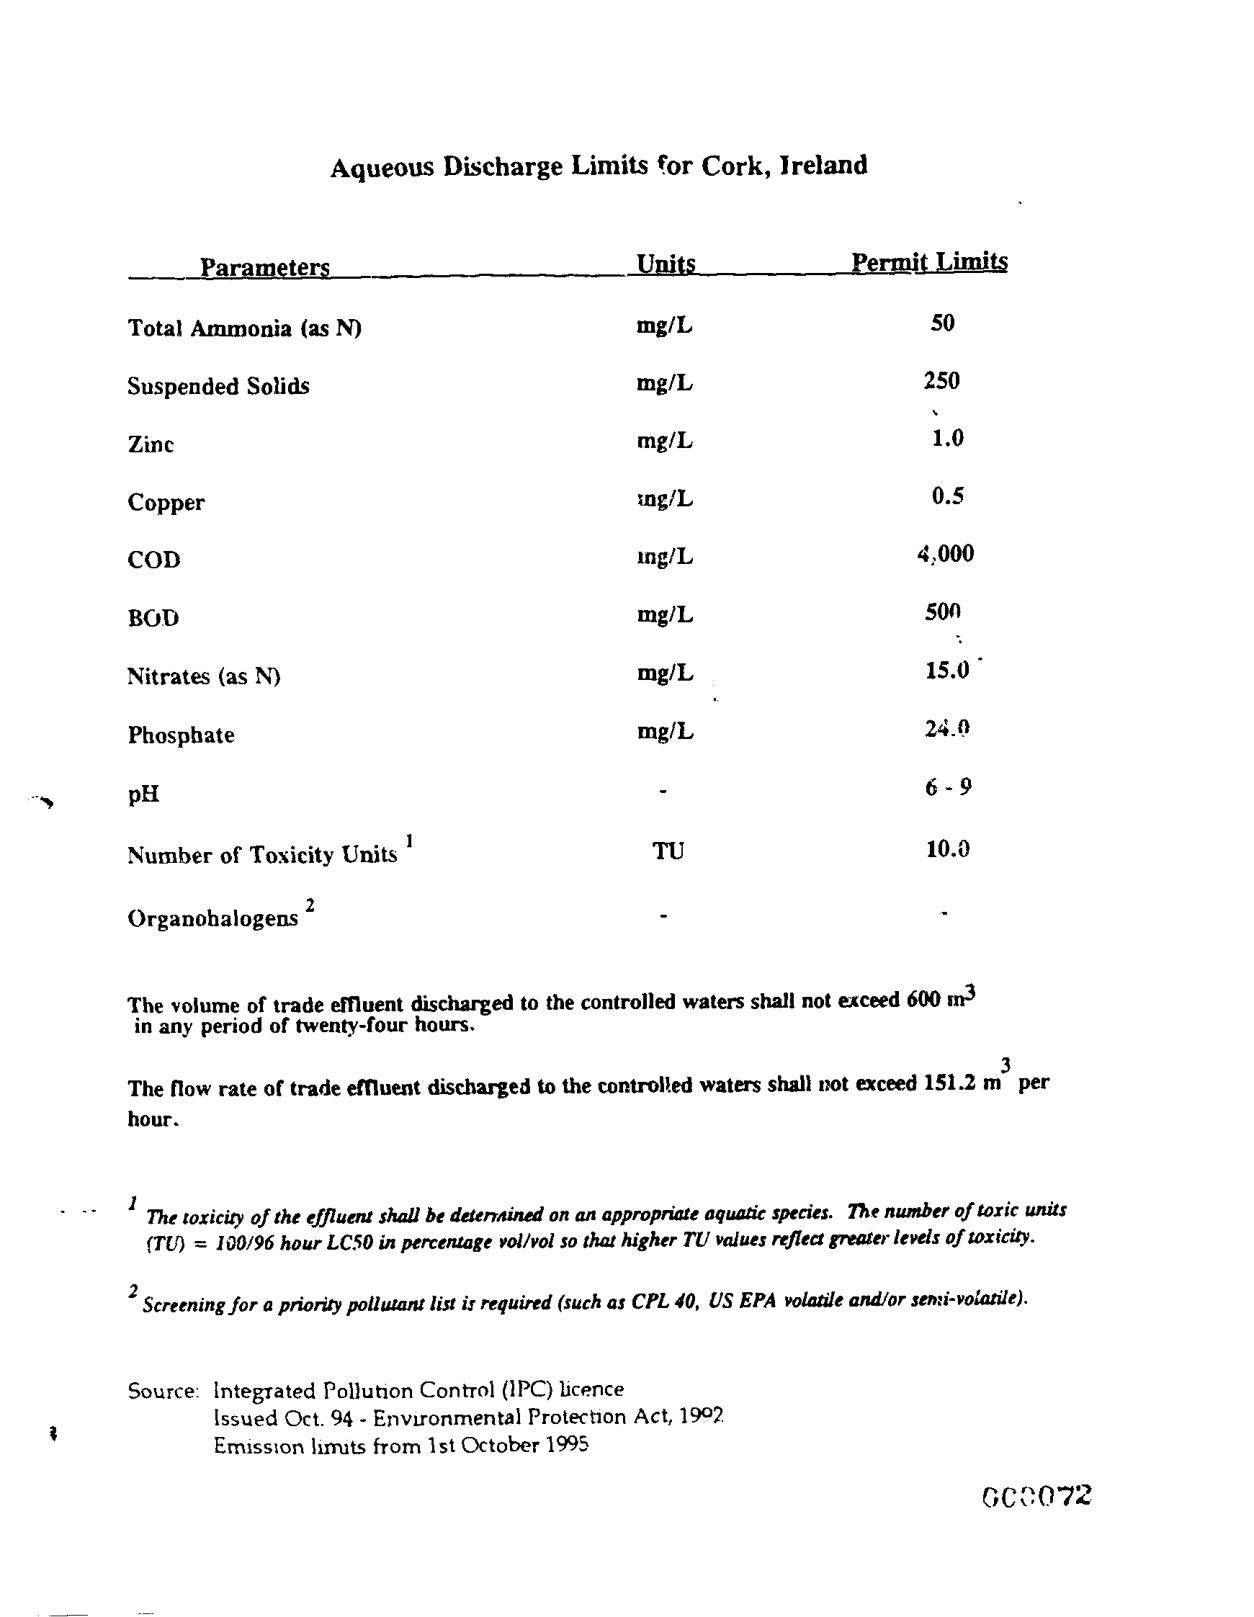partial_lined: (121, 245, 1011, 934)
